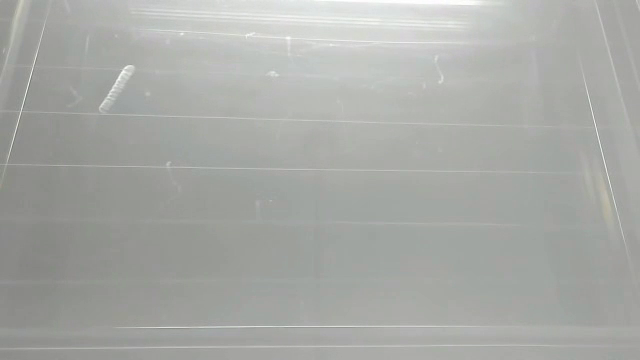alpha: (96, 63, 140, 118)
